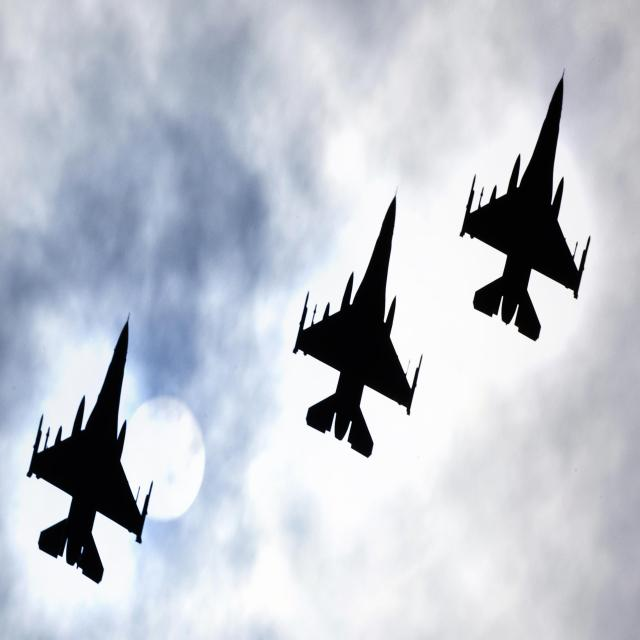MIL_Plane: (459, 67, 592, 342), (292, 187, 423, 458), (26, 312, 153, 585)
